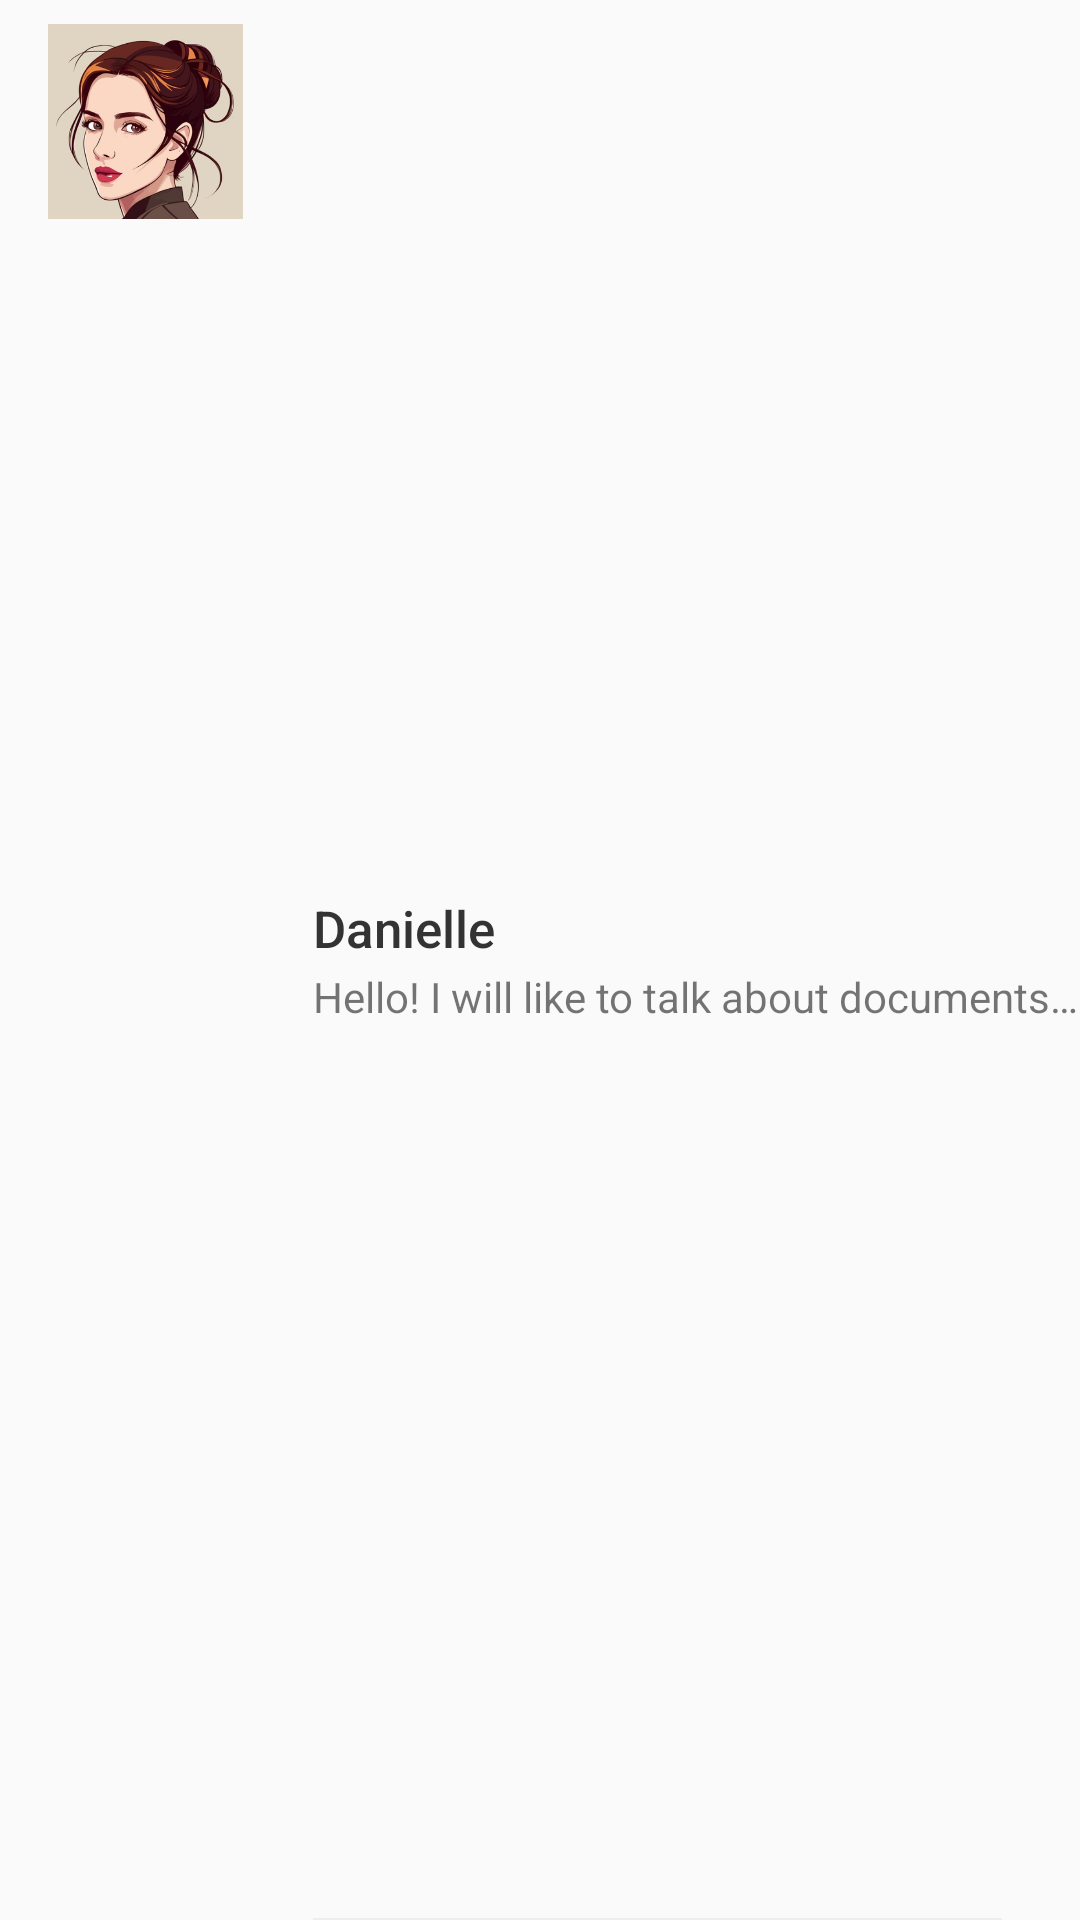

Locate icon controls on the screen. Image size 1080*1920, boxes as (x1, y1, x2, y2).
woman: (48, 24, 243, 219)
